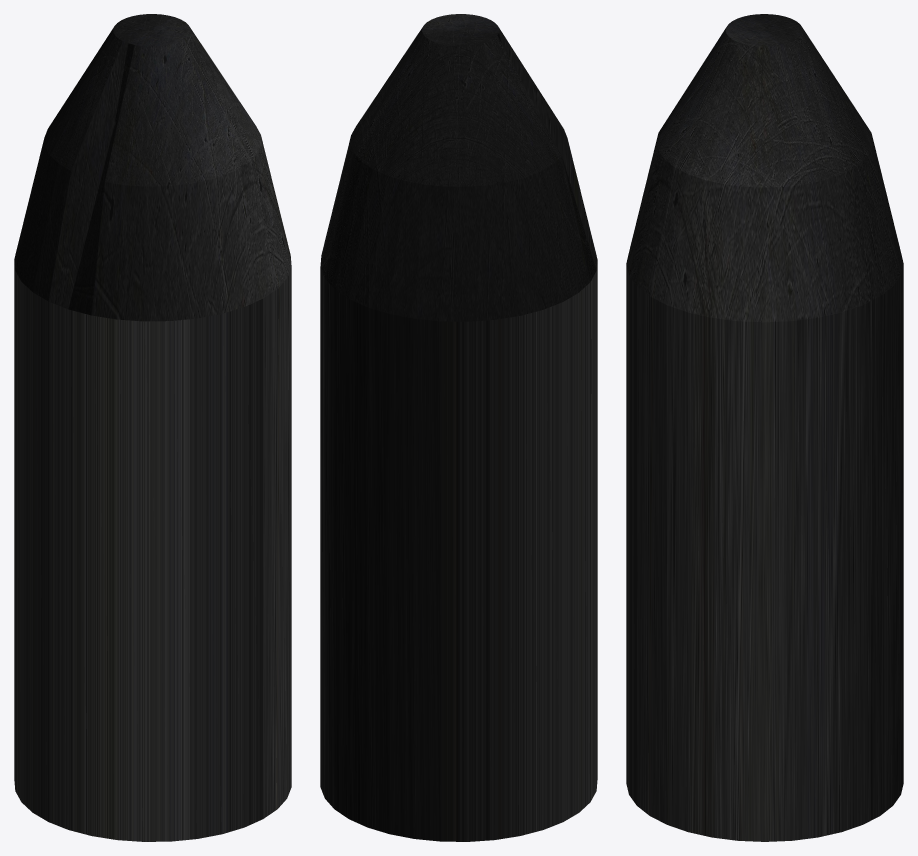
Rendered from bullet_obj.obj.
3 renders of one model, left to right at view 1: azimuth 30°, elevation 25°; view 2: azimuth 150°, elevation 25°; view 3: azimuth 270°, elevation 25°, orthographic.
Visible parts, largest first — view 1: Cylinder; view 2: Cylinder; view 3: Cylinder.
Boxes of the visible parts, x1,y1,x2,y2 form: Cylinder: (14,14,291,841); Cylinder: (320,14,597,841); Cylinder: (626,14,903,841).
Size of the model in its own units: 0.1 by 0.2993 by 0.1.
